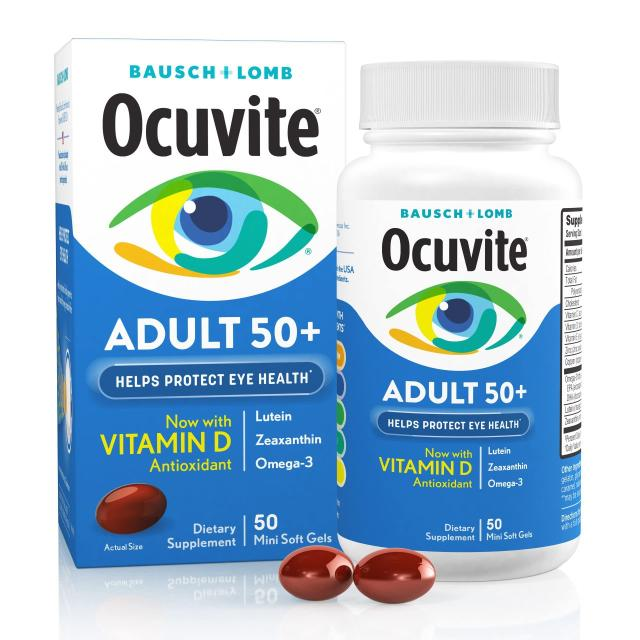food-supliment: (352, 81, 573, 556)
medicine: (67, 49, 345, 558)
